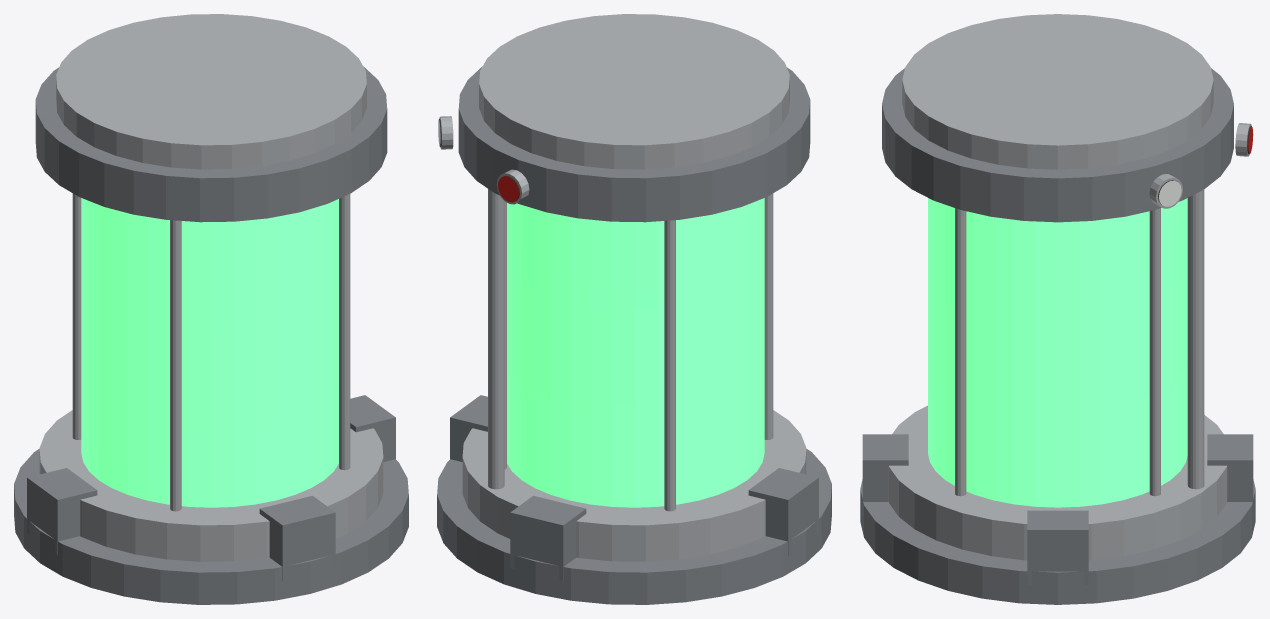
Rendered from core_biocontainer.glb.
The picture shows the model from 3 angles, left to right: view 1: azimuth 30°, elevation 25°; view 2: azimuth 150°, elevation 25°; view 3: azimuth 270°, elevation 25°; orthographic projection.
Parts seen in each view (by area): view 1: Toxic_Fluid_Cylinder, Cylinder.007, Cylinder.006, Cylinder, Cylinder.001, Cube.003, Cube.002, Cylinder.004, Cylinder.005, Cylinder.003, Cube; view 2: Toxic_Fluid_Cylinder, Cylinder.007, Cylinder.006, Cylinder, Cylinder.001, Cylinder.012, Cube.001, Cube.002, Cylinder.003, Cylinder.004, Cube, Cylinder.002; view 3: Toxic_Fluid_Cylinder, Cylinder.007, Cylinder.006, Cylinder.001, Cylinder, Cylinder.012, Cube, Cylinder.002, Cylinder.005, Cube.001, Cube.003.
Boxes of the visible parts, x1,y1,x2,y2 form: Toxic_Fluid_Cylinder: [81, 198, 338, 507]; Cylinder.007: [56, 14, 366, 169]; Cylinder.006: [35, 66, 387, 222]; Cylinder: [14, 448, 408, 604]; Cylinder.001: [39, 410, 383, 561]; Cube.003: [259, 495, 335, 580]; Cube.002: [27, 468, 97, 555]; Cylinder.004: [170, 220, 181, 511]; Cylinder.005: [339, 194, 350, 470]; Cylinder.003: [72, 193, 81, 439]; Cube: [350, 395, 395, 461]; Toxic_Fluid_Cylinder: [507, 198, 764, 507]; Cylinder.007: [479, 14, 789, 169]; Cylinder.006: [458, 66, 810, 222]; Cylinder: [437, 448, 831, 604]; Cylinder.001: [462, 410, 806, 561]; Cylinder.012: [488, 189, 504, 489]; Cube.001: [510, 495, 586, 580]; Cube.002: [748, 468, 818, 555]; Cylinder.003: [664, 220, 675, 511]; Cylinder.004: [764, 193, 773, 439]; Cube: [450, 395, 487, 461]; Cylinder.002: [504, 201, 506, 469]; Toxic_Fluid_Cylinder: [928, 198, 1187, 507]; Cylinder.007: [902, 14, 1213, 169]; Cylinder.006: [882, 68, 1233, 222]; Cylinder.001: [888, 405, 1227, 560]; Cylinder: [860, 479, 1255, 604]; Cylinder.012: [1187, 189, 1204, 489]; Cube: [1027, 510, 1088, 585]; Cylinder.002: [1149, 208, 1160, 496]; Cylinder.005: [955, 208, 966, 496]; Cube.001: [1207, 434, 1253, 515]; Cube.003: [862, 434, 908, 515].
Bounding box in the file's own units: 3.1 × 3.82 × 3.1.
5 materials, 2 textured.
